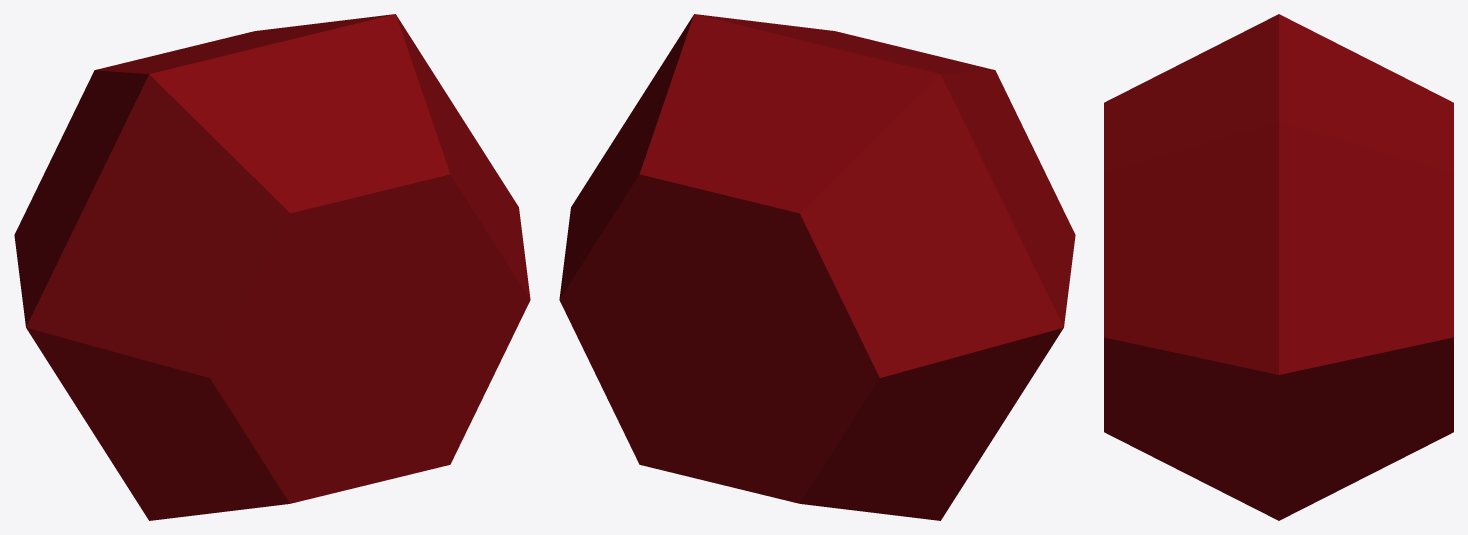
Rendered from Cranberry.obj.
The picture shows the model from 3 angles, left to right: view 1: azimuth 30°, elevation 25°; view 2: azimuth 150°, elevation 25°; view 3: azimuth 270°, elevation 25°; orthographic projection. The views are drawn at different scales.
Visible parts, largest first — view 1: cherries.001; view 2: cherries.001; view 3: cherries.001.
Boxes of the visible parts, x1,y1,x2,y2 form: cherries.001: [14, 14, 530, 520]; cherries.001: [559, 14, 1075, 520]; cherries.001: [1104, 14, 1453, 520].
Size of the model in its own units: 0.044 by 0.0381 by 0.0302.
